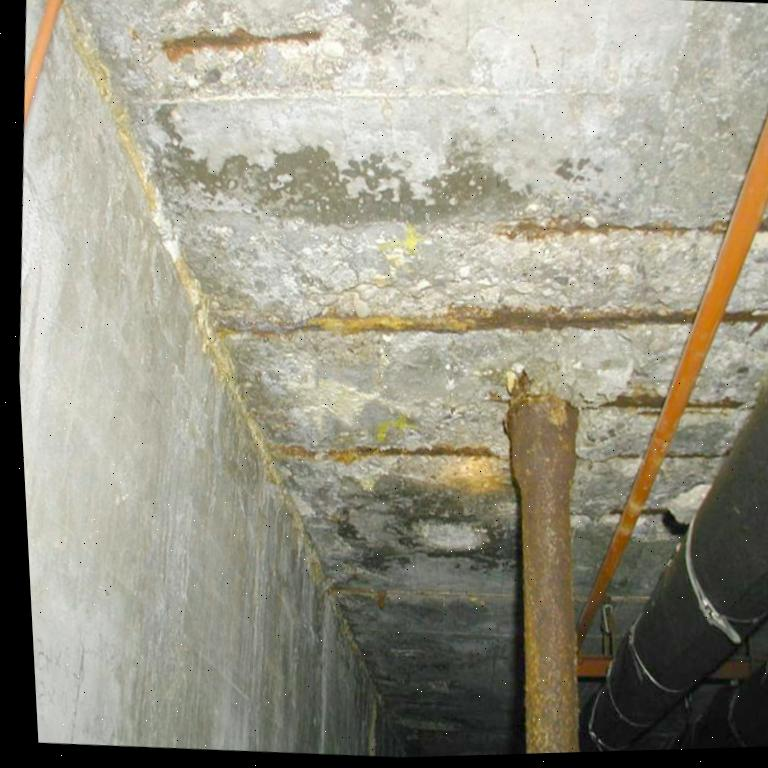exposed_rebar: (292, 306, 694, 334), (492, 216, 727, 241), (162, 27, 321, 62), (725, 309, 768, 327), (758, 216, 768, 233)
spalling: (127, 0, 355, 101)
